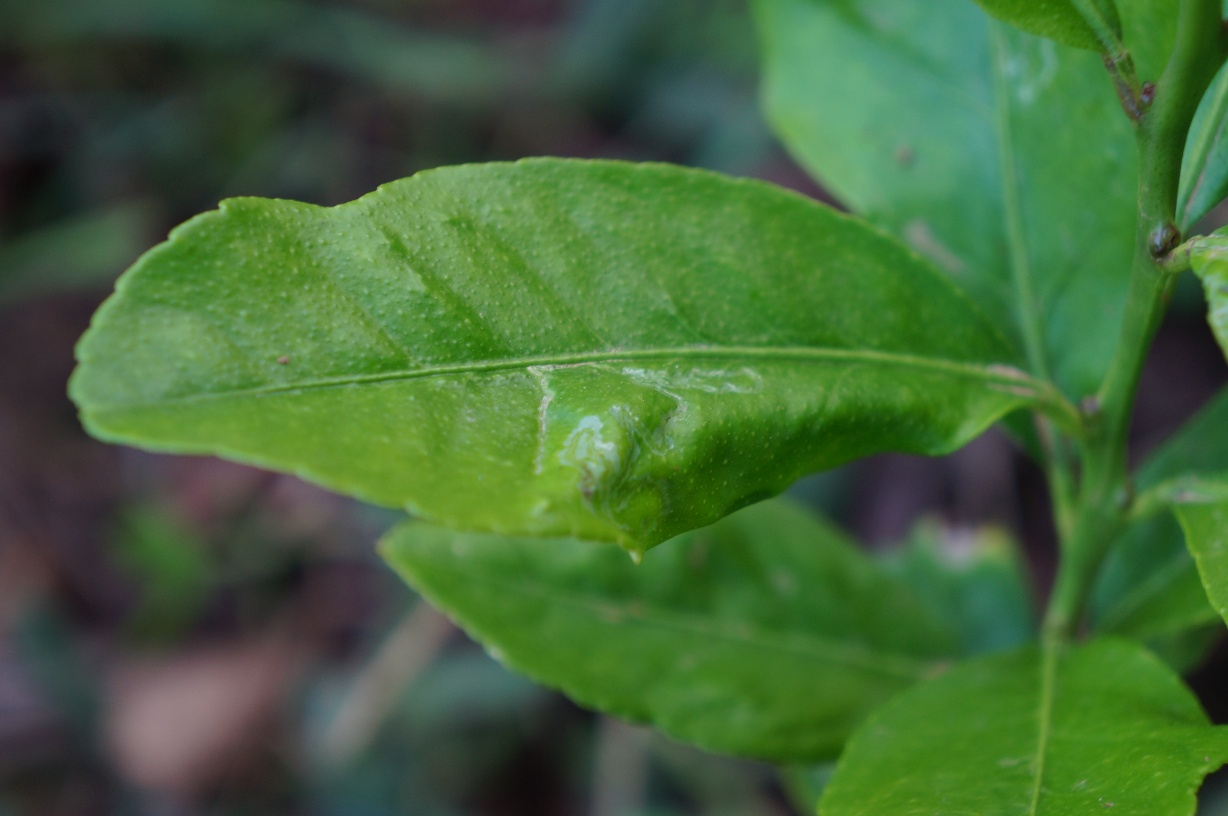damage: (515, 353, 774, 489)
